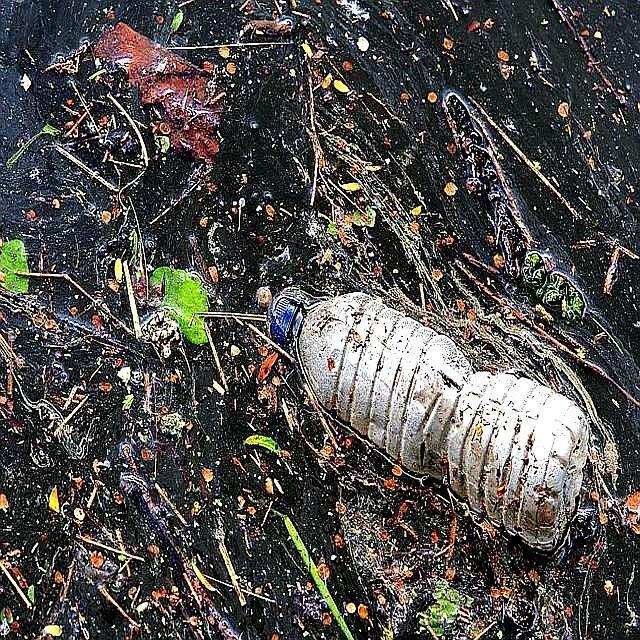Non-biodegradable: (221, 255, 605, 567)
